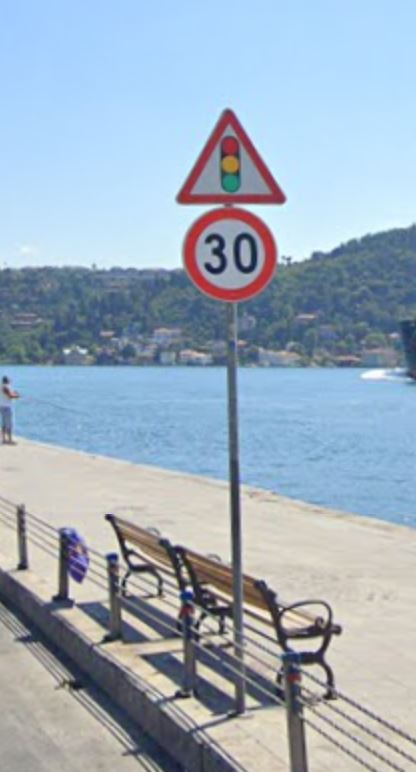30 Km Hiz Siniri: (177, 208, 280, 300)
Trafikisiklari: (177, 102, 287, 204)
